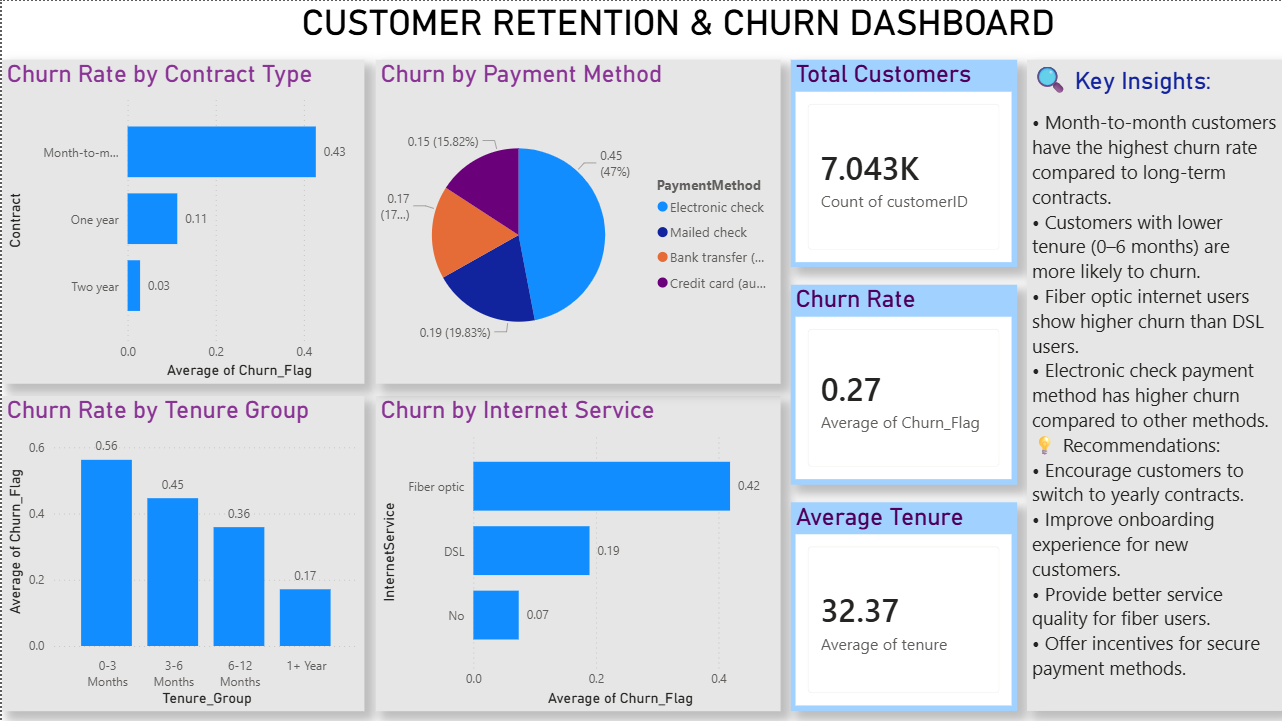

The page's visual inventory and layout, read from the dashboard file:
{"tool":"powerbi","page":{"name":"Page 1","canvas":[1280,720],"ordinal":0},"visuals":[{"type":"clusteredBarChart","title":"Churn Rate by Contract Type","fields":{"Category":["WA_Fn-UseC_-Telco-Customer-Chur.Contract"],"Y":["Avg(WA_Fn-UseC_-Telco-Customer-Chur.Churn_Flag)"]},"box":[0,58.8,362.5,323.8],"z":0},{"type":"clusteredColumnChart","title":" Churn Rate by Tenure Group","fields":{"Category":["WA_Fn-UseC_-Telco-Customer-Chur.Tenure_Group"],"Y":["Avg(WA_Fn-UseC_-Telco-Customer-Chur.Churn_Flag)"]},"box":[0,395,362.5,315],"z":1000},{"type":"clusteredBarChart","title":"Churn by Internet Service","fields":{"Category":["WA_Fn-UseC_-Telco-Customer-Chur.InternetService"],"Y":["Avg(WA_Fn-UseC_-Telco-Customer-Chur.Churn_Flag)"]},"box":[373.8,395,405,315],"z":2000},{"type":"pieChart","title":"     Churn by Payment Method","fields":{"Category":["WA_Fn-UseC_-Telco-Customer-Chur.PaymentMethod"],"Y":["Avg(WA_Fn-UseC_-Telco-Customer-Chur.Churn_Flag)"]},"box":[373.8,58.8,405,323.8],"z":3000},{"type":"cardVisual","title":"Total Customers","fields":{"Data":["Count(WA_Fn-UseC_-Telco-Customer-Chur.customerID)"]},"box":[788.8,58.8,226.2,207.5],"z":5000},{"type":"cardVisual","title":"Churn Rate","fields":{"Data":["Avg(WA_Fn-UseC_-Telco-Customer-Chur.Churn_Flag)"]},"box":[788.8,283.8,226.2,200],"z":5001},{"type":"cardVisual","title":"Average Tenure","fields":{"Data":["Avg(WA_Fn-UseC_-Telco-Customer-Chur.tenure)"]},"box":[788.8,501.2,226.2,208.8],"z":5002},{"type":"textbox","title":"🔍 Key Insights:","box":[1025,58.8,255,651.2],"z":5003},{"type":"textbox","title":"CUSTOMER RETENTION & CHURN DASHBOARD","box":[295,0,768.8,42.5],"z":5004}]}

Visuals, with their boxes in screenshot pixels (x1, y1, x2, y2), scaled from the page's 1280x720 canvas onto the 1282x721 screenshot:
"Churn Rate by Contract Type" clusteredBarChart: 0:59:363:383
" Churn Rate by Tenure Group" clusteredColumnChart: 0:396:363:711
"Churn by Internet Service" clusteredBarChart: 374:396:780:711
"     Churn by Payment Method" pieChart: 374:59:780:383
"Total Customers" cardVisual: 790:59:1017:267
"Churn Rate" cardVisual: 790:284:1017:484
"Average Tenure" cardVisual: 790:502:1017:711
"🔍 Key Insights:" textbox: 1027:59:1281:711
"CUSTOMER RETENTION & CHURN DASHBOARD" textbox: 295:0:1065:43
